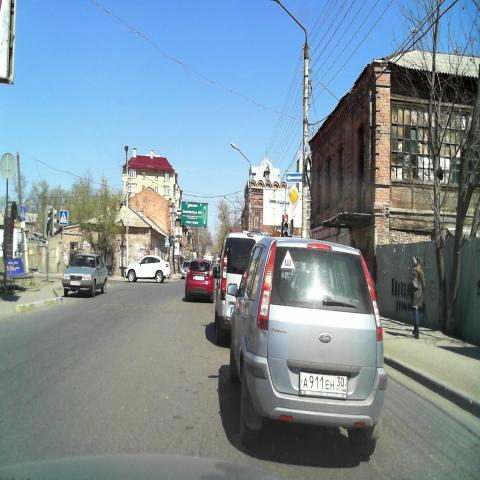5_7_2: (286, 173, 302, 182)
